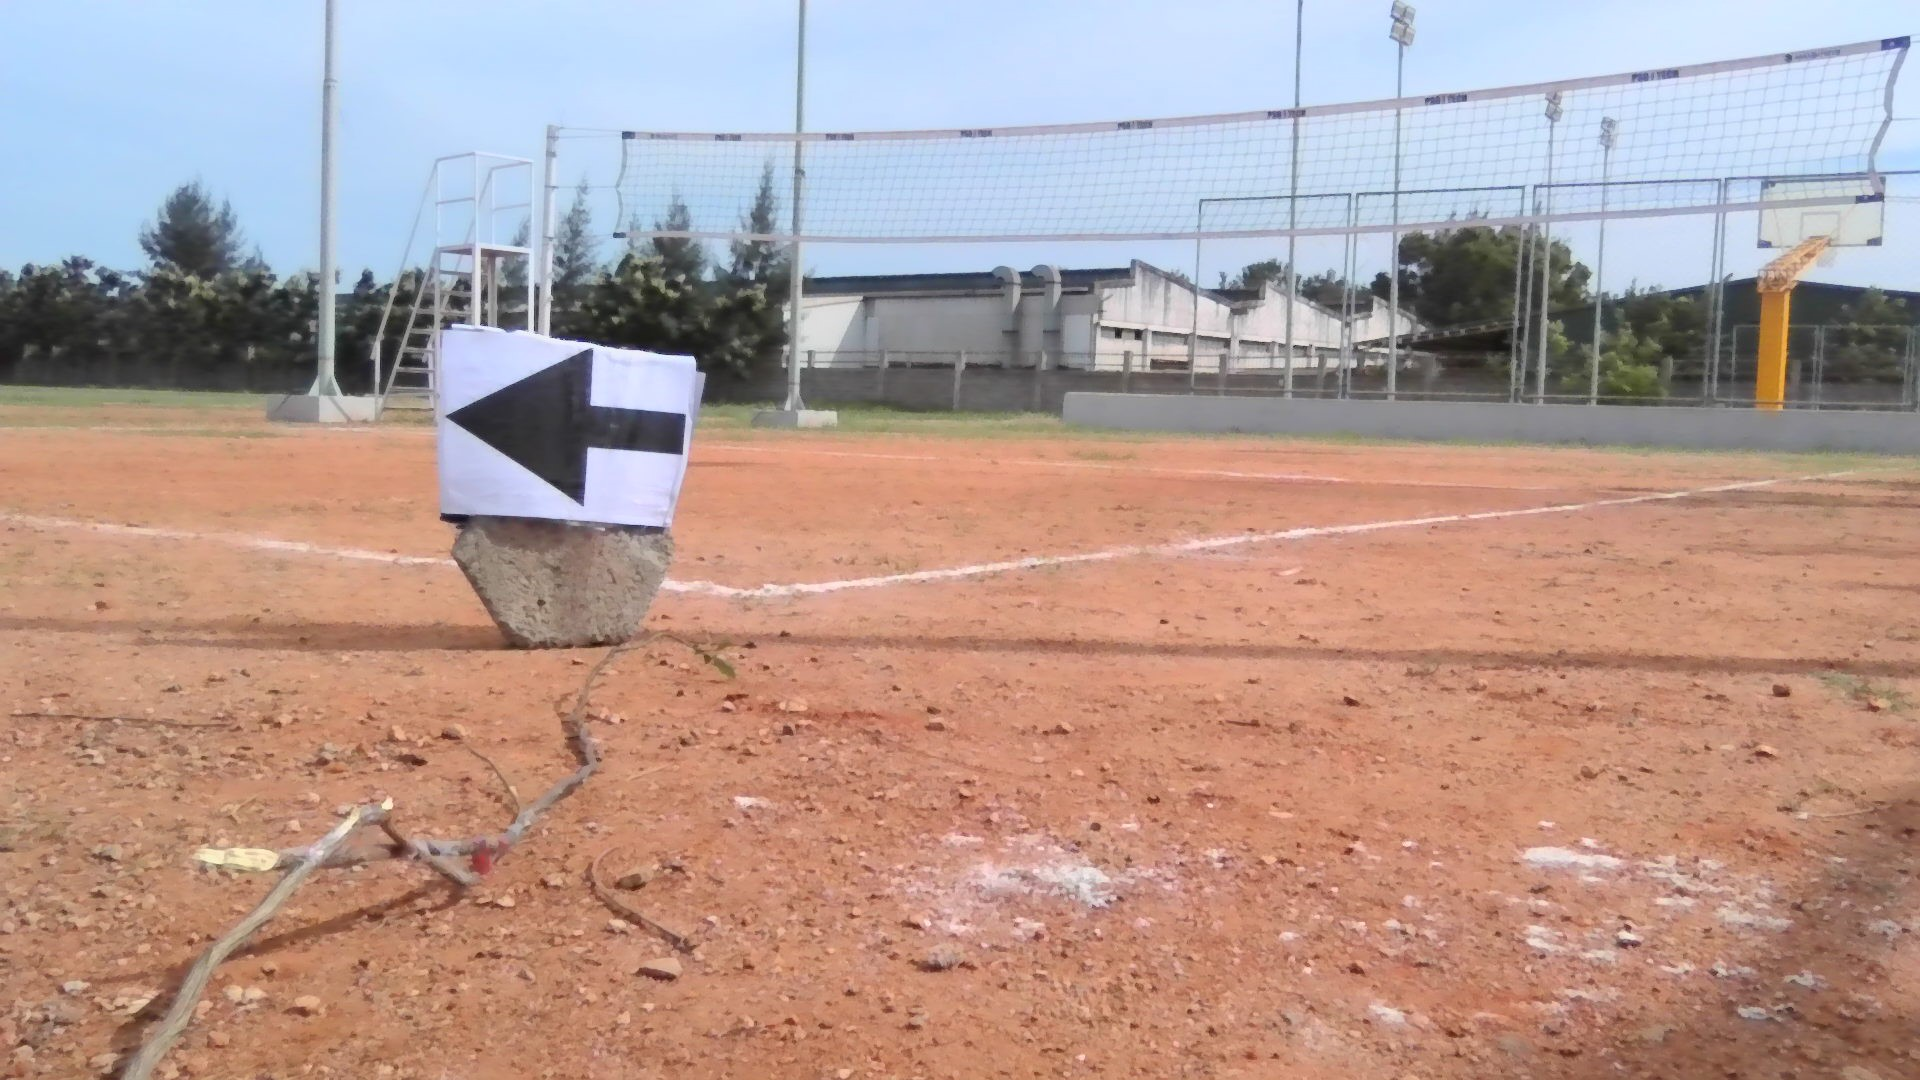leftDir: (431, 324, 694, 524)
